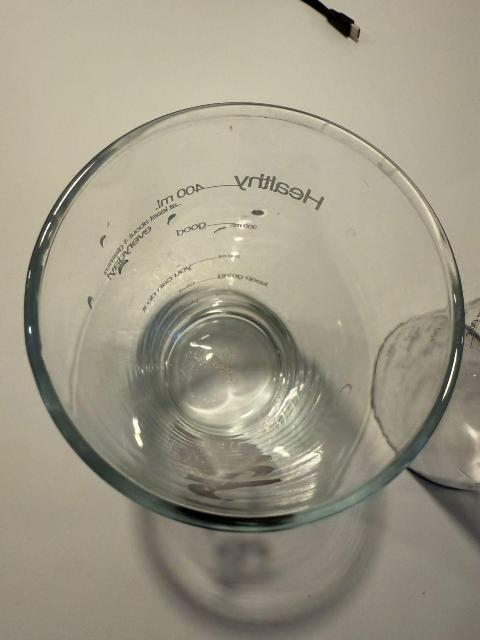Cam: (24, 97, 459, 531), (368, 253, 480, 496)
